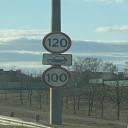speed_limit_100: (41, 65, 73, 90)
speed_limit_120: (42, 30, 73, 54)
